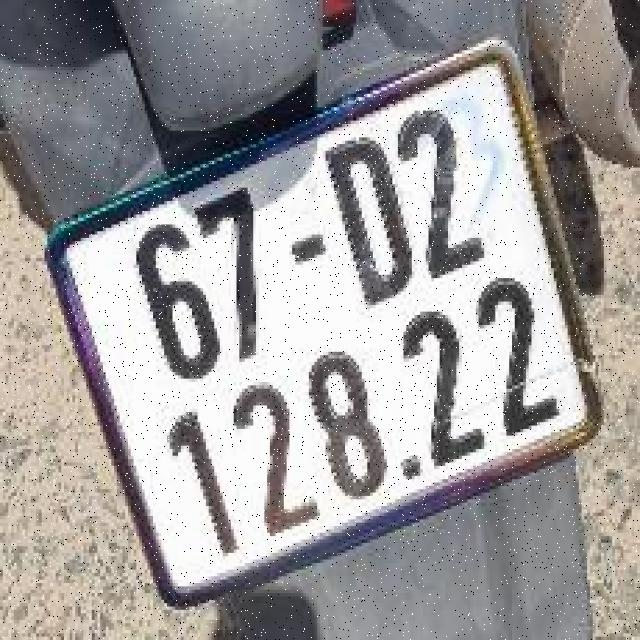1: (153, 393, 254, 570)
2: (380, 92, 503, 298), (381, 296, 498, 481), (462, 259, 573, 453), (220, 367, 331, 550)
6: (124, 206, 232, 397)
7: (184, 173, 289, 376)
8: (295, 332, 400, 515)
D: (317, 122, 426, 319)
